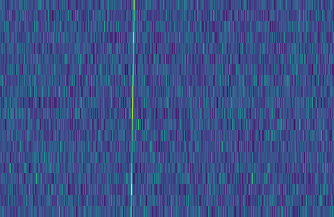signal: (126, 0, 138, 217)
